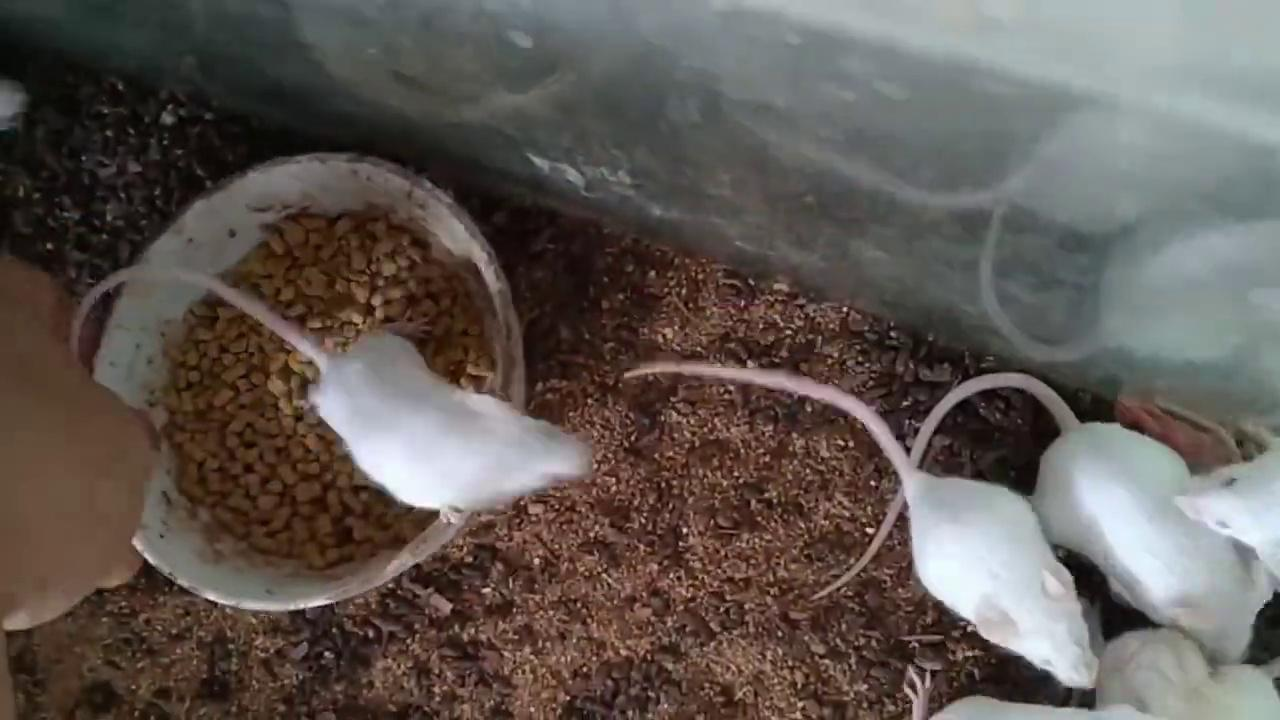rat: (622, 362, 1097, 687), (68, 263, 590, 527), (811, 370, 1252, 662), (1177, 438, 1280, 593)
